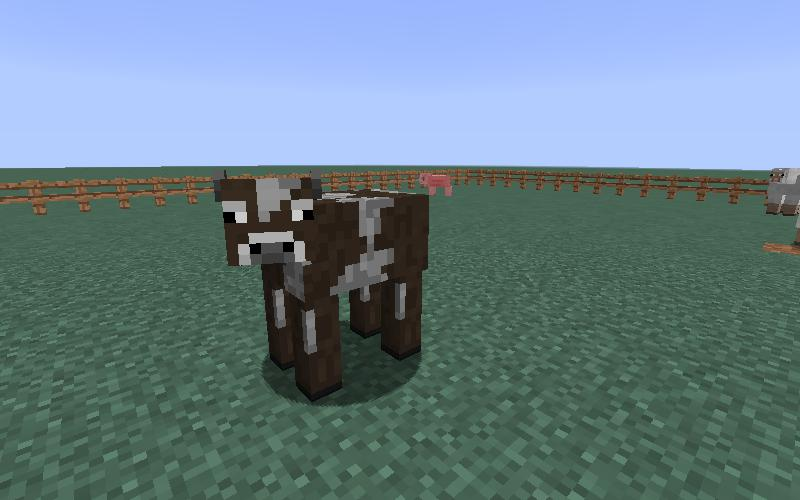cow: (211, 167, 433, 407)
pig: (421, 173, 452, 196)
sheep: (761, 163, 798, 221)
